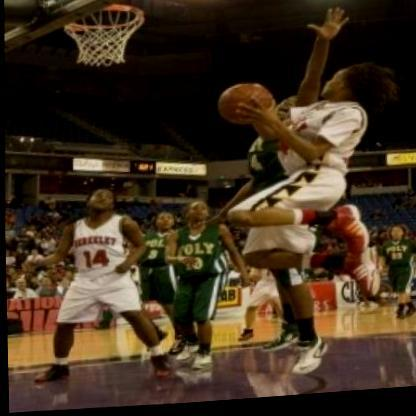basketball: (213, 77, 279, 136)
